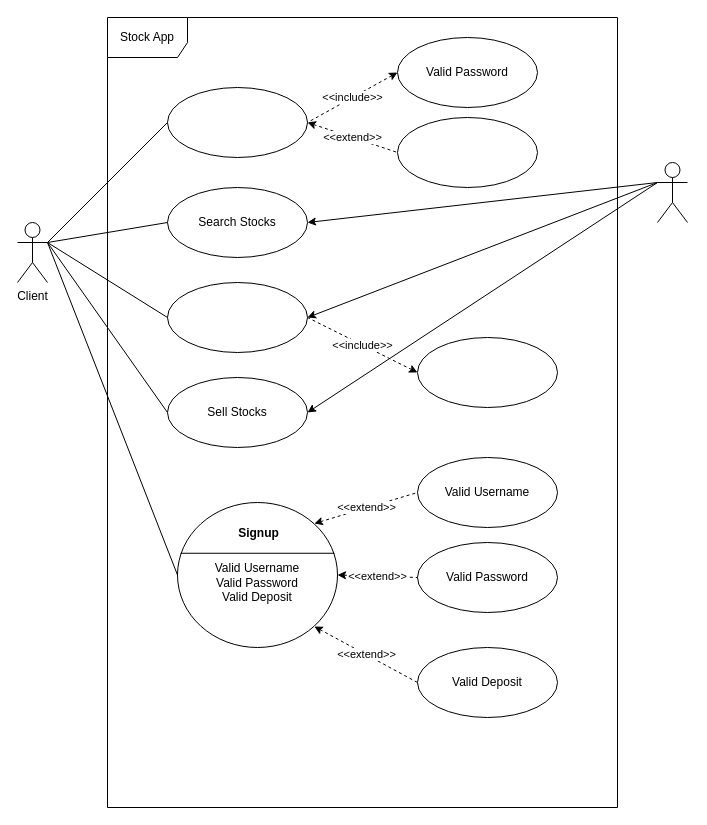
This 707x825 diagram has some shape labels left out. Each missing label, with the centre of its shape:
"Admin" goes at (672,192).
"Buy Stocks" goes at (237,317).
"Login" goes at (237,122).
"Login Error" goes at (467,152).
"Verify Sufficient Funds" goes at (487,372).
